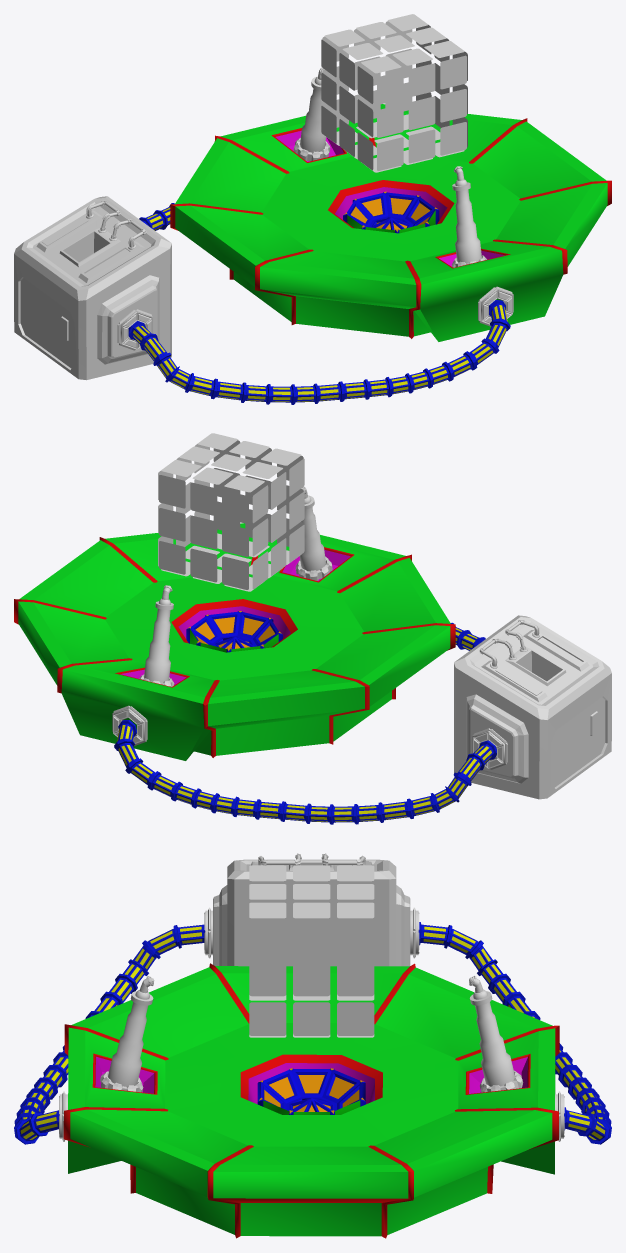
The model's file is NAV_CubeStation_Model_Resized_ToTexture.fbx.
3 views of the same model, one above another, from view 1: azimuth 30°, elevation 25°; view 2: azimuth 150°, elevation 25°; view 3: azimuth 270°, elevation 25° (orthographic). The views are drawn at different scales.
Visible parts, largest first — view 1: CD-CubeTable, CD-Cube, CD-StationBase, CD-PipeBaseRight, CD-CubeProjectorCenter, CD-ProjectorStandRight, CD-ProjectorStandLeft, CD-CubeInsert, CDPipeGasketRight, CD-RampLightLeft, CD-RampLightRight, CDPipeGasketRight001 (+1 smaller); view 2: CD-CubeTable, CD-Cube, CD-StationBase, CD-PipeBaseLeft, CD-CubeProjectorCenter, CD-ProjectorStandLeft, CD-ProjectorStandRight, CD-CubeInsert, CDPipeGasketLeft, CD-RampLightRight, CD-RampLightLeft, CDPipeGasketLeft001 (+1 smaller); view 3: CD-CubeTable, CD-Cube, CD-StationBase, CD-PipeBaseLeft, CD-PipeBaseRight, CD-CubeProjectorCenter, CD-ProjectorStandLeft, CD-ProjectorStandRight, Cable_Small.
Boxes of the visible parts, x1,y1,x2,y2 form: CD-CubeTable: (170, 104, 611, 341); CD-Cube: (321, 14, 467, 172); CD-StationBase: (14, 196, 171, 380); CD-PipeBaseRight: (128, 300, 510, 404); CD-CubeProjectorCenter: (343, 191, 439, 233); CD-ProjectorStandRight: (452, 182, 486, 267); CD-ProjectorStandLeft: (293, 76, 330, 160); CD-CubeInsert: (59, 228, 120, 266); CDPipeGasketRight: (117, 309, 153, 350); CD-RampLightLeft: (36, 210, 102, 252); CD-RampLightRight: (78, 241, 144, 282); CDPipeGasketRight001: (478, 286, 513, 326); CD-CubeTable: (14, 523, 455, 760); CD-Cube: (158, 433, 304, 591); CD-StationBase: (454, 615, 611, 799); CD-PipeBaseLeft: (114, 720, 496, 824); CD-CubeProjectorCenter: (186, 611, 282, 652); CD-ProjectorStandLeft: (139, 601, 174, 686); CD-ProjectorStandRight: (295, 495, 332, 580); CD-CubeInsert: (505, 647, 566, 686); CDPipeGasketLeft: (472, 728, 507, 769); CD-RampLightRight: (523, 630, 589, 671); CD-RampLightLeft: (481, 660, 547, 702); CDPipeGasketLeft001: (112, 705, 147, 745); CD-CubeTable: (63, 963, 559, 1238); CD-Cube: (249, 865, 374, 1037); CD-StationBase: (213, 859, 410, 966); CD-PipeBaseLeft: (418, 922, 611, 1144); CD-PipeBaseRight: (14, 924, 205, 1144); CD-CubeProjectorCenter: (257, 1068, 365, 1114); CD-ProjectorStandLeft: (469, 991, 523, 1092); CD-ProjectorStandRight: (100, 991, 153, 1092); Cable_Small: (258, 853, 365, 865).
Size of the model in its own units: 8.28 by 3.63 by 6.81.
